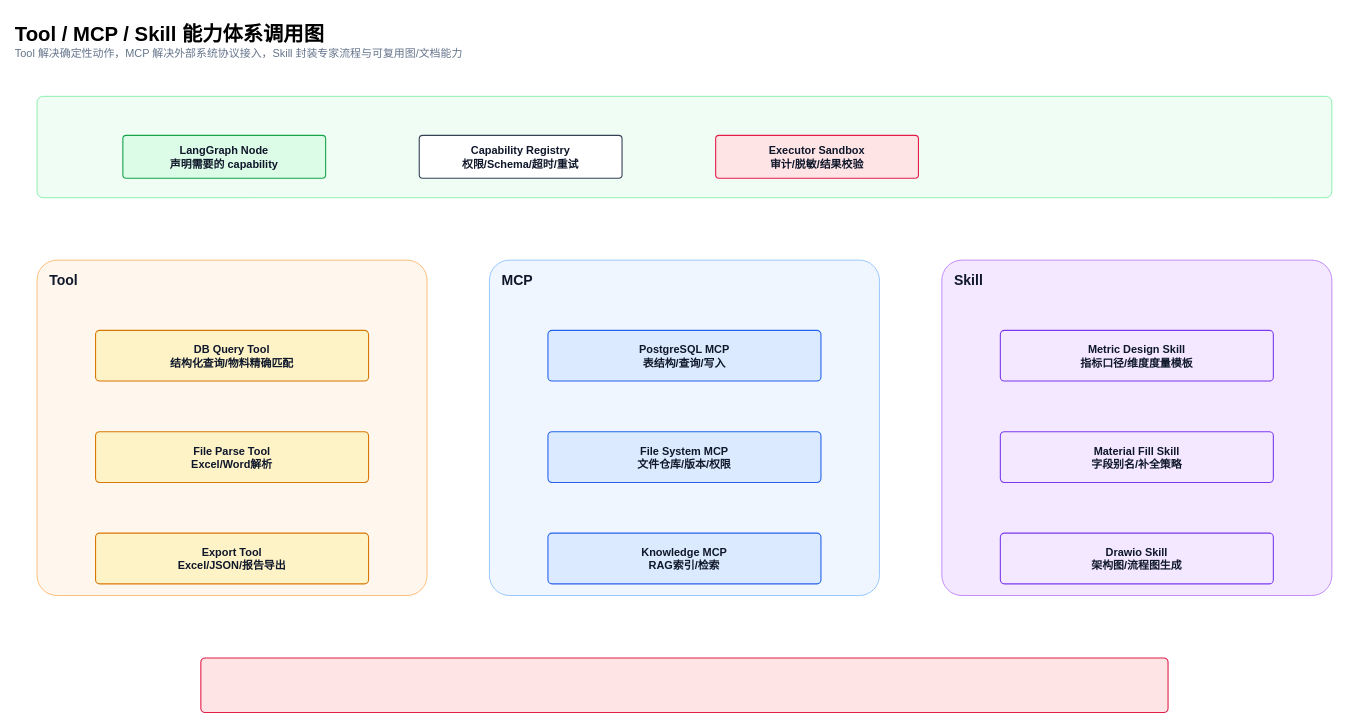
The diagram is 1368 pixels wide and 726 high, and some of its shapes have lost their labels. The shapes that lost their labels are listed below. From the top down, each one's box as (x1, y1, x2, y2) in pixels, then its label:
(36, 95, 1332, 198): Agent Node 调用入口
(200, 657, 1168, 713): 统一治理：所有 Tool/MCP/Skill 调用必须记录 run_id、输入摘要、输出摘要、耗时、错误、权限、脱敏状态和可重放参数；敏感原文不进入模型提示词。
